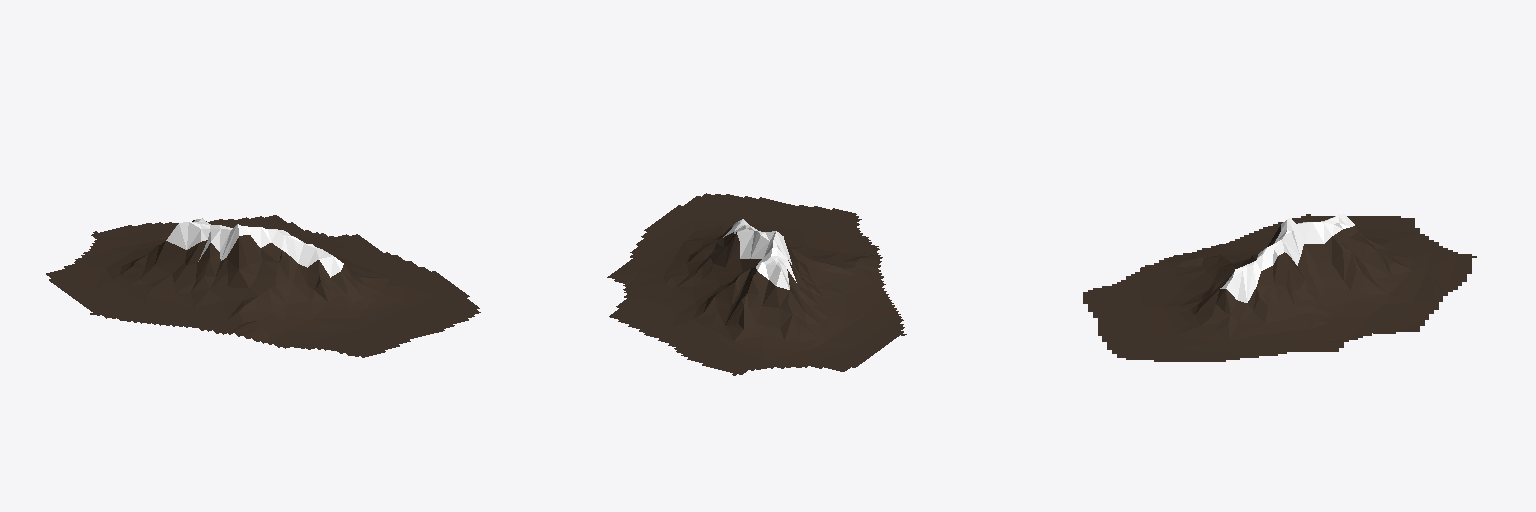
The model's file is mount.obj.
The picture shows the model from 3 angles: view 1: azimuth 30°, elevation 25°; view 2: azimuth 150°, elevation 25°; view 3: azimuth 270°, elevation 25°; orthographic projection.
Parts seen in each view (by area): view 1: Mesh; view 2: Mesh; view 3: Mesh.
Part boxes in pixels (x1,y1,x2,y2): Mesh: (46, 215, 480, 357); Mesh: (607, 193, 906, 375); Mesh: (1083, 213, 1476, 361).
Size of the model in its own units: 29.64 by 5.98 by 33.24.